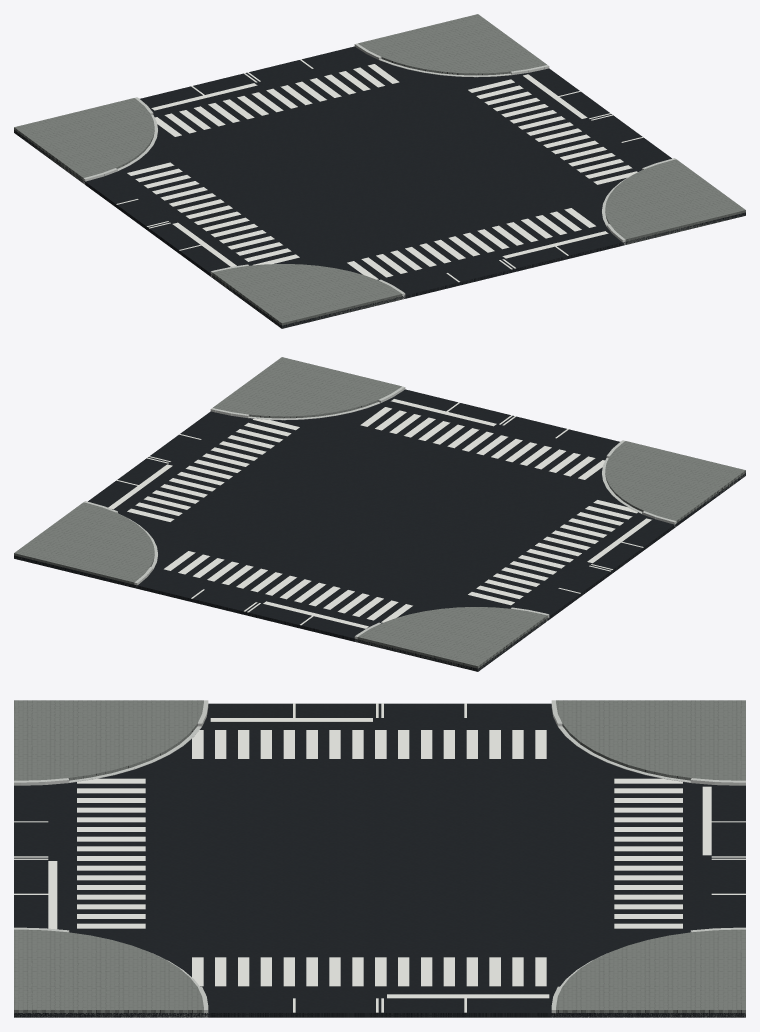
File: RK2_Cross_4x4_32m.fbx
3 renders of one model, top to bottom at view 1: azimuth 30°, elevation 25°; view 2: azimuth 150°, elevation 25°; view 3: azimuth 270°, elevation 25°, orthographic. The views are drawn at different scales.
Visible parts, largest first — view 1: COL_Asphalt.001, COL_Paving.001, Markings_White.001, COL_Concrete.001, Curb_Concrete.001; view 2: COL_Asphalt.001, COL_Paving.001, Markings_White.001, COL_Concrete.001, Curb_Concrete.001; view 3: COL_Asphalt.001, COL_Paving.001, Markings_White.001, COL_Concrete.001, Curb_Concrete.001.
Boxes of the visible parts, bbox=[...] form: COL_Asphalt.001: bbox=[14, 46, 745, 328]; COL_Paving.001: bbox=[14, 14, 745, 328]; Markings_White.001: bbox=[116, 59, 643, 282]; COL_Concrete.001: bbox=[83, 43, 674, 299]; Curb_Concrete.001: bbox=[84, 44, 675, 291]; COL_Asphalt.001: bbox=[14, 389, 745, 671]; COL_Paving.001: bbox=[14, 357, 745, 671]; Markings_White.001: bbox=[108, 399, 651, 628]; COL_Concrete.001: bbox=[84, 386, 676, 641]; Curb_Concrete.001: bbox=[87, 386, 675, 635]; COL_Asphalt.001: bbox=[14, 703, 745, 1017]; COL_Paving.001: bbox=[14, 700, 745, 1017]; Markings_White.001: bbox=[14, 703, 745, 1012]; COL_Concrete.001: bbox=[14, 700, 745, 1017]; Curb_Concrete.001: bbox=[14, 700, 745, 1009].
Size of the model in its own units: 3200 by 37 by 3200.
Materials: 4 (2 with a texture image).
